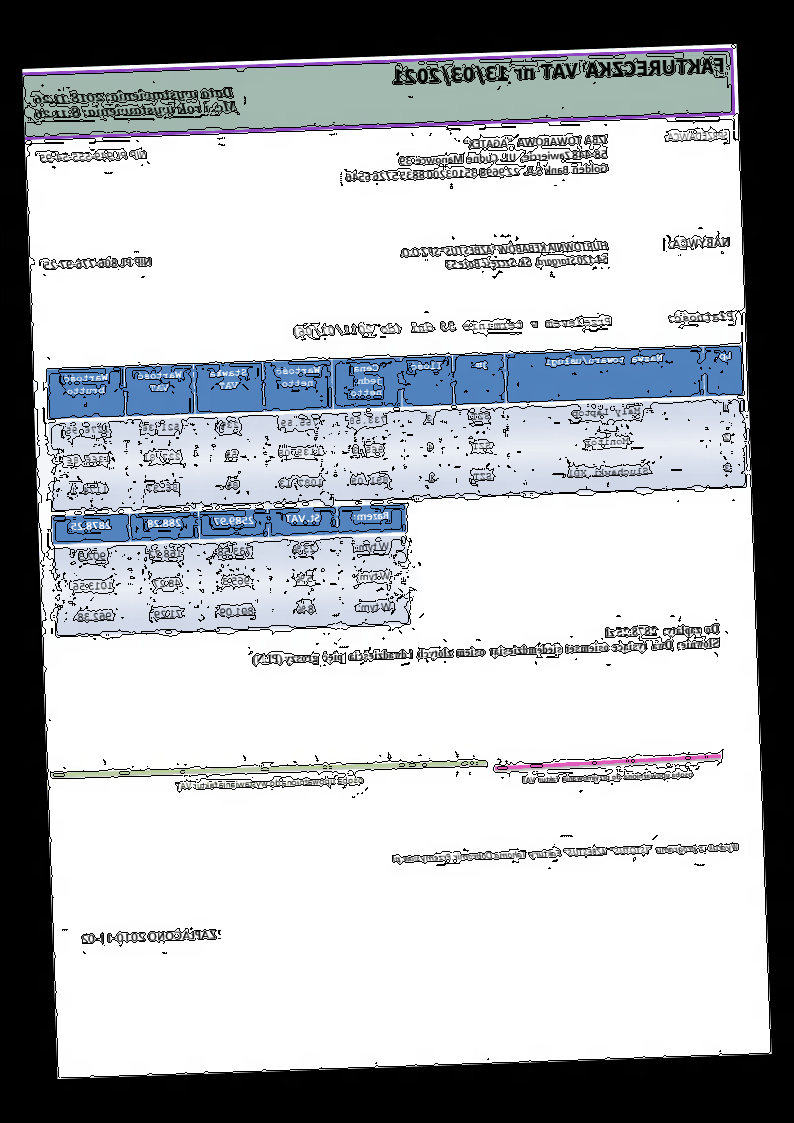Table: (45, 343, 748, 514), (51, 503, 411, 638)
TextBox: (249, 621, 723, 669), (343, 132, 610, 185), (391, 54, 728, 89), (390, 840, 740, 867), (291, 314, 613, 341), (33, 84, 241, 123), (398, 239, 610, 273), (175, 774, 366, 793), (521, 768, 696, 786), (81, 926, 219, 946), (43, 255, 154, 272), (39, 148, 149, 165), (666, 308, 736, 326), (664, 127, 730, 145), (668, 234, 733, 251)
